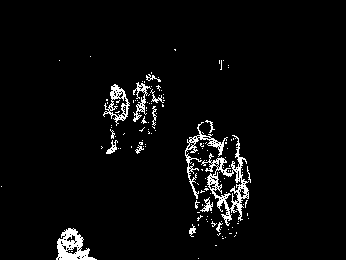person: (184, 118, 222, 235), (209, 135, 250, 239), (133, 72, 163, 154), (106, 82, 129, 155)
